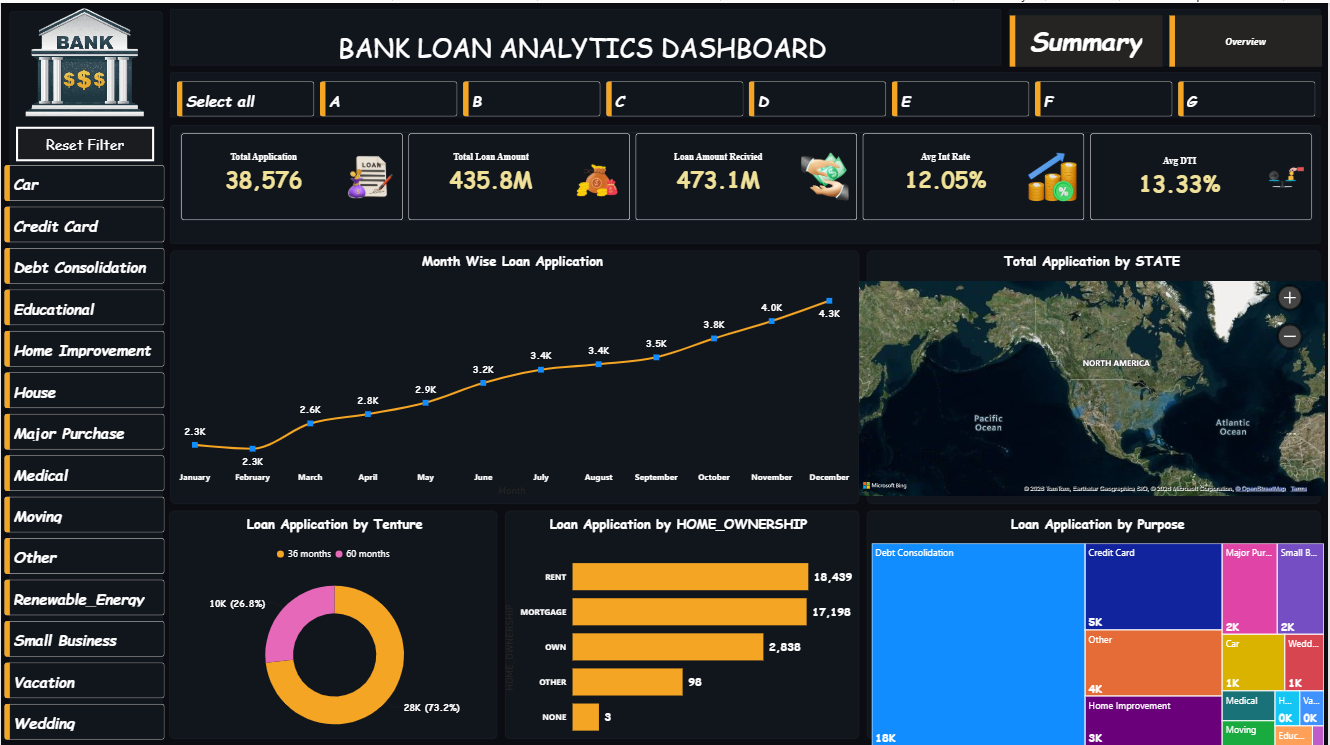

What the dashboard file says about the page in this screenshot:
{"tool":"powerbi","page":{"name":"Overview","canvas":[1920,1080],"ordinal":1},"visuals":[{"type":"cardVisual","fields":{"Data":["financial_loan.Total Application","financial_loan.Total Loan Amount","financial_loan.Loan Amount Recivied","financial_loan.Avg Int Rate","financial_loan.Avg DTI"]},"box":[242.5,170.1,1677.6,162.9],"z":0},{"type":"image","box":[0,0,242.5,170.1],"z":1000},{"type":"advancedSlicerVisual","fields":{"Values":["financial_loan.PURPOSE"]},"box":[0,229.8,242.5,850.5],"z":2000},{"type":"advancedSlicerVisual","fields":{"Values":["financial_loan.GRADE"]},"box":[249.7,108.6,1663.1,61.5],"z":3000},{"type":"actionButton","box":[21.7,179.2,200,50],"z":4000},{"type":"textbox","box":[0,34.4,1683,101.3],"z":5000},{"type":"pageNavigator","box":[1460.4,18.1,452.4,74.2],"z":6000},{"type":"lineChart","title":"Month Wise Loan Application","fields":{"Category":["financial_loan.ISSUE_DATE.Variation.Date Hierarchy.Year","financial_loan.ISSUE_DATE.Variation.Date Hierarchy.Quarter","financial_loan.ISSUE_DATE.Variation.Date Hierarchy.Month","financial_loan.ISSUE_DATE.Variation.Date Hierarchy.Day"],"Y":["financial_loan.Total Application"]},"box":[242.5,360.1,995.3,358.3],"z":7000},{"type":"donutChart","title":"Loan Application by Tenture","fields":{"Category":["financial_loan.TERM"],"Y":["financial_loan.Total Application"]},"box":[242.5,740.2,481.4,340.2],"z":8000},{"type":"clusteredBarChart","title":"Loan Application by HOME_OWNERSHIP","fields":{"Category":["financial_loan.HOME_OWNERSHIP"],"Y":["financial_loan.Total Application"]},"box":[723,740,514,340],"z":9000},{"type":"treemap","title":"Loan Application by Purpose","fields":{"Group":["financial_loan.PURPOSE"],"Values":["financial_loan.Total Application"]},"box":[1255.9,740.2,664.1,340.2],"z":10000},{"type":"map","title":"Total Application by STATE","fields":{"Category":["financial_loan.ADDRESS_STATE"],"Size":["financial_loan.Total Application"]},"box":[1237,360,683,358],"z":11000}]}

Visuals, with their boxes in screenshot pixels (x1, y1, x2, y2), scaled from the page's 1920x1080 canvas onto the 1330x745 screenshot:
cardVisual - financial_loan.Total Application x financial_loan.Total Loan Amount: [168, 117, 1329, 230]
image: [0, 0, 168, 117]
advancedSlicerVisual - financial_loan.PURPOSE: [0, 159, 168, 744]
advancedSlicerVisual - financial_loan.GRADE: [173, 75, 1325, 117]
actionButton: [15, 124, 154, 158]
textbox: [0, 24, 1166, 94]
pageNavigator: [1012, 12, 1325, 64]
"Month Wise Loan Application" lineChart: [168, 248, 857, 496]
"Loan Application by Tenture" donutChart: [168, 511, 501, 744]
"Loan Application by HOME_OWNERSHIP" clusteredBarChart: [501, 510, 857, 744]
"Loan Application by Purpose" treemap: [870, 511, 1329, 744]
"Total Application by STATE" map: [857, 248, 1329, 495]
